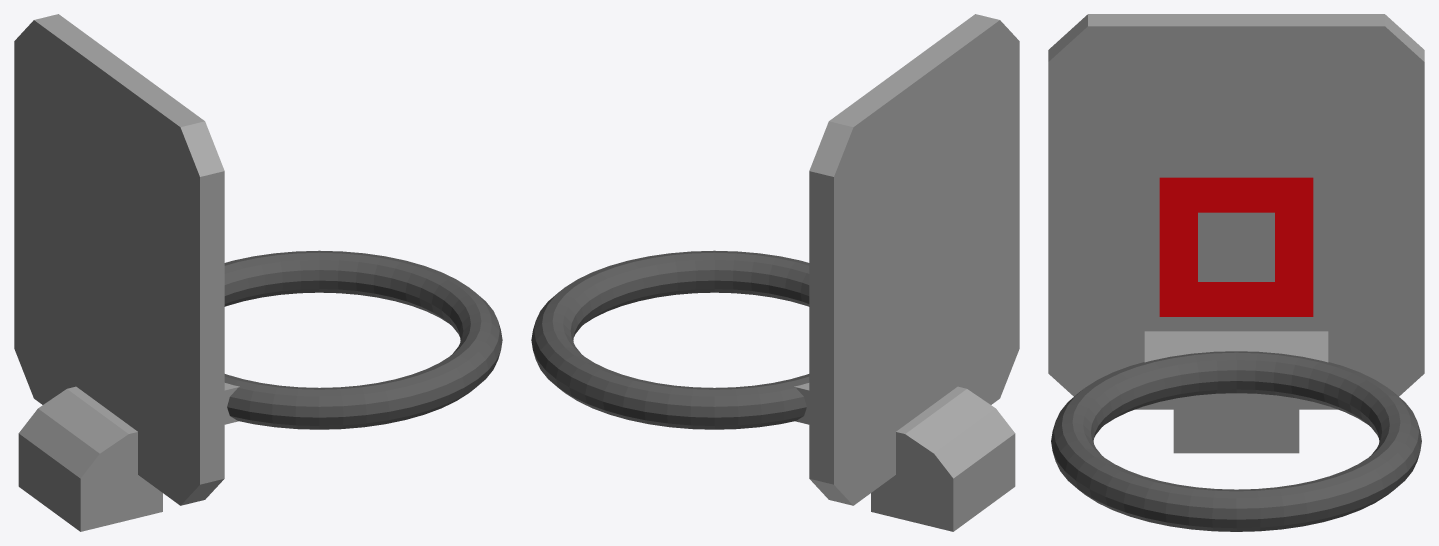
Rendered from BasketBallHoop.fbx.
3 renders of one model, left to right at view 1: azimuth 30°, elevation 25°; view 2: azimuth 150°, elevation 25°; view 3: azimuth 270°, elevation 25°, orthographic.
Parts seen in each view (by area): view 1: Cube, Torus; view 2: Cube, Torus; view 3: Cube, Torus, Cube.001.
Boxes of the visible parts, x1,y1,x2,y2 form: Cube: (14,14,239,531); Torus: (224,250,502,429); Cube: (794,14,1019,531); Torus: (531,250,809,429); Cube: (1048,14,1424,453); Torus: (1051,351,1421,531); Cube.001: (1159,177,1313,316).
Bounding box in the file's own units: 521 × 490 × 391.
